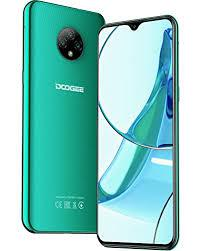Smartphone: (24, 1, 105, 237), (97, 19, 174, 249)
